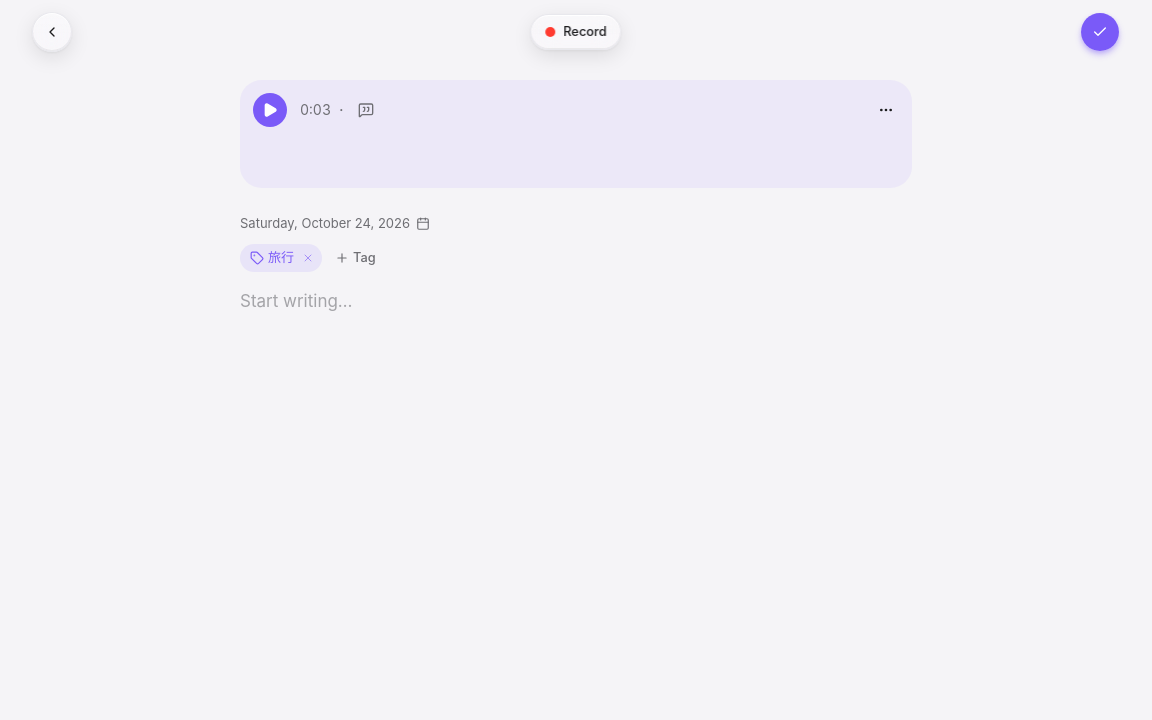
Test: a voice note the server couldn't delete comes back
Click the button named "Voice note options". click: click(886, 110)
box: x1=872 y1=96 x2=900 y2=124
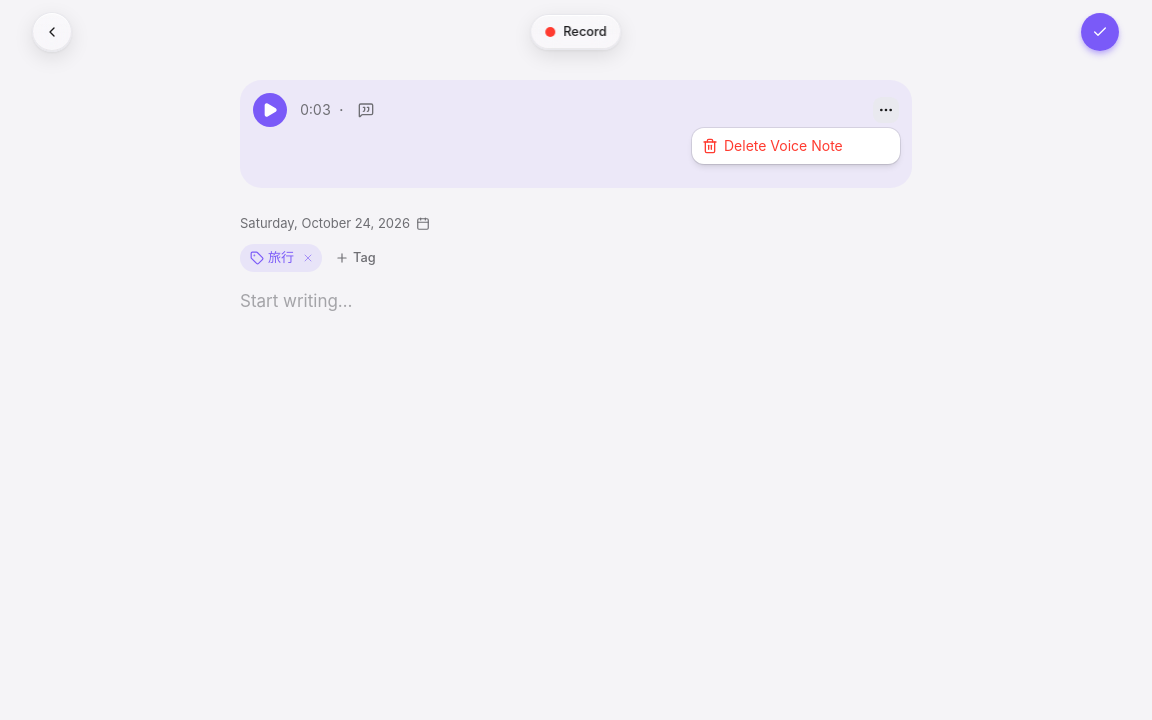
Click the menu item "Delete Voice Note". click: click(772, 146)
box: x1=702 y1=137 x2=843 y2=154
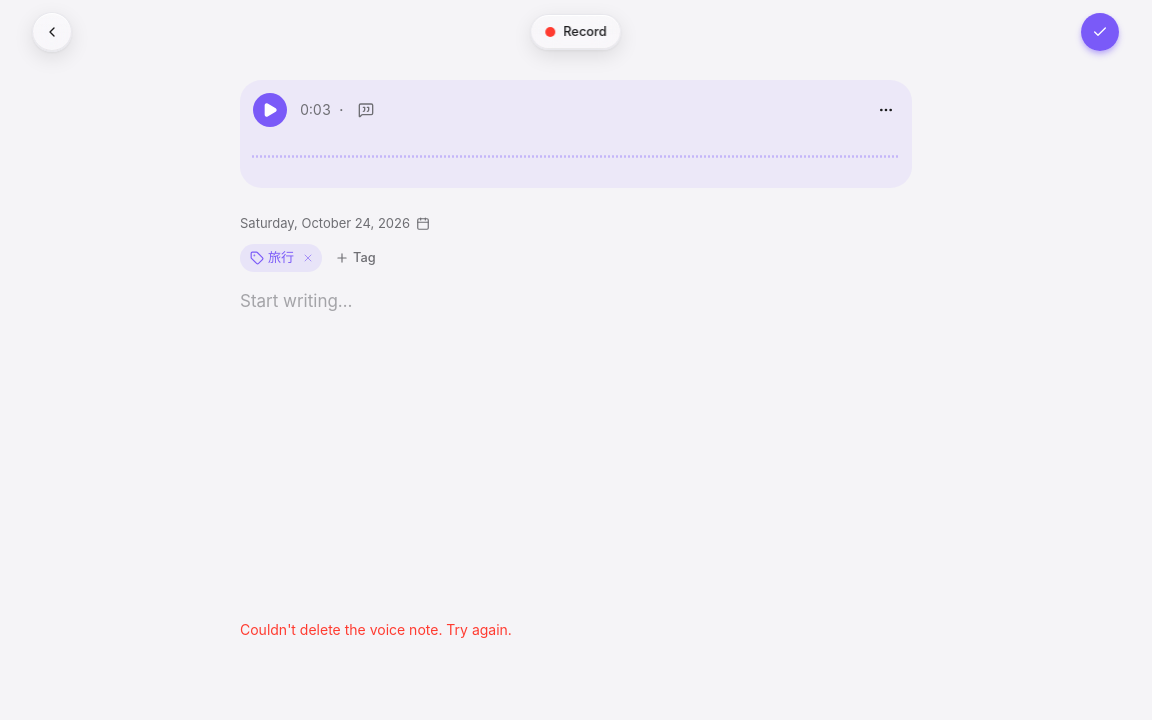
Check: the button named "Voice note options" is shown, box x1=872 y1=96 x2=900 y2=124
Check: the text "Couldn't delete the voice note. Try again." is shown, box x1=240 y1=620 x2=512 y2=638
